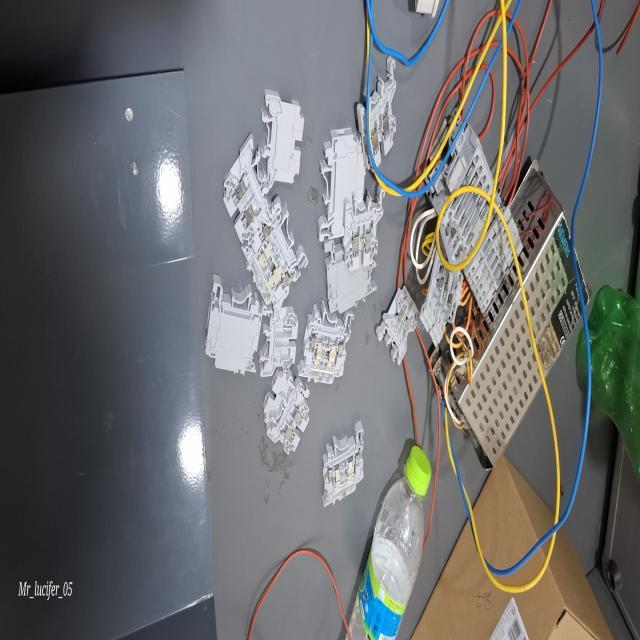Inverted: (251, 74, 311, 198)
Pass: (352, 48, 407, 178), (340, 177, 388, 283), (264, 372, 312, 459), (372, 285, 420, 365)
Reject: (257, 292, 300, 384)
